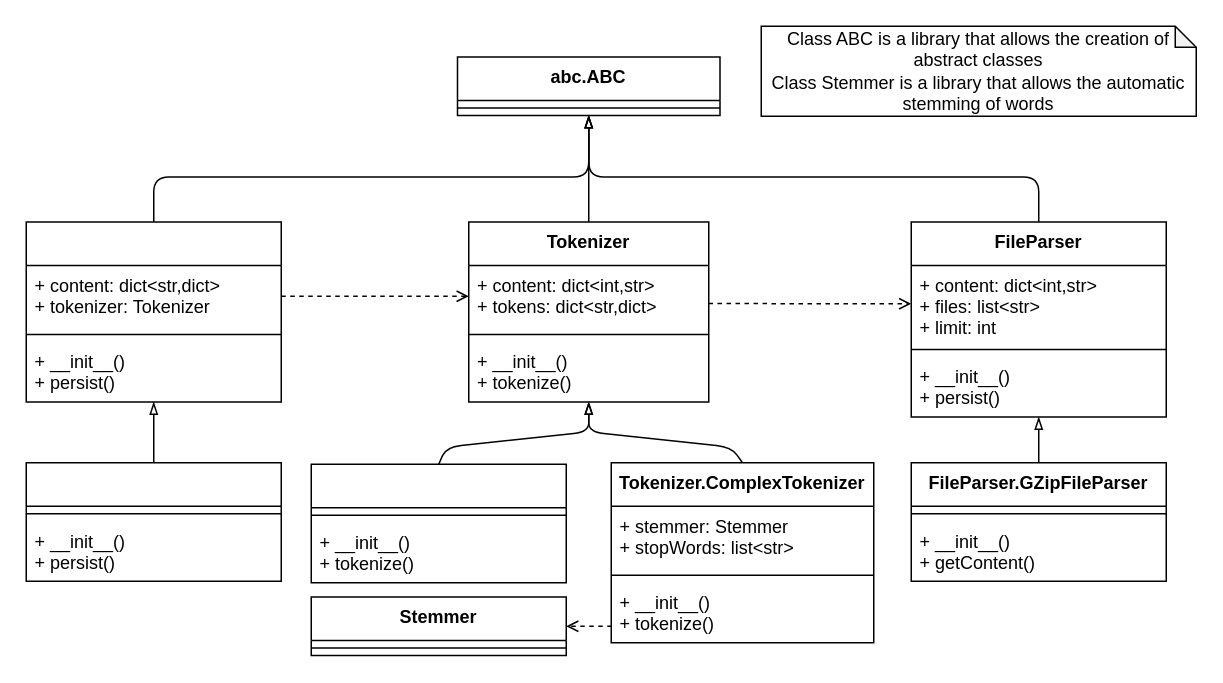
This 1223x683 diagram has some shape labels left out. Each missing label, with the box of its shape:
PersistIndex: (25, 220, 281, 402)
PersistIndex.PersistCSV: (25, 461, 281, 581)
Tokenizer.SimpleTokenizer: (310, 463, 566, 583)
